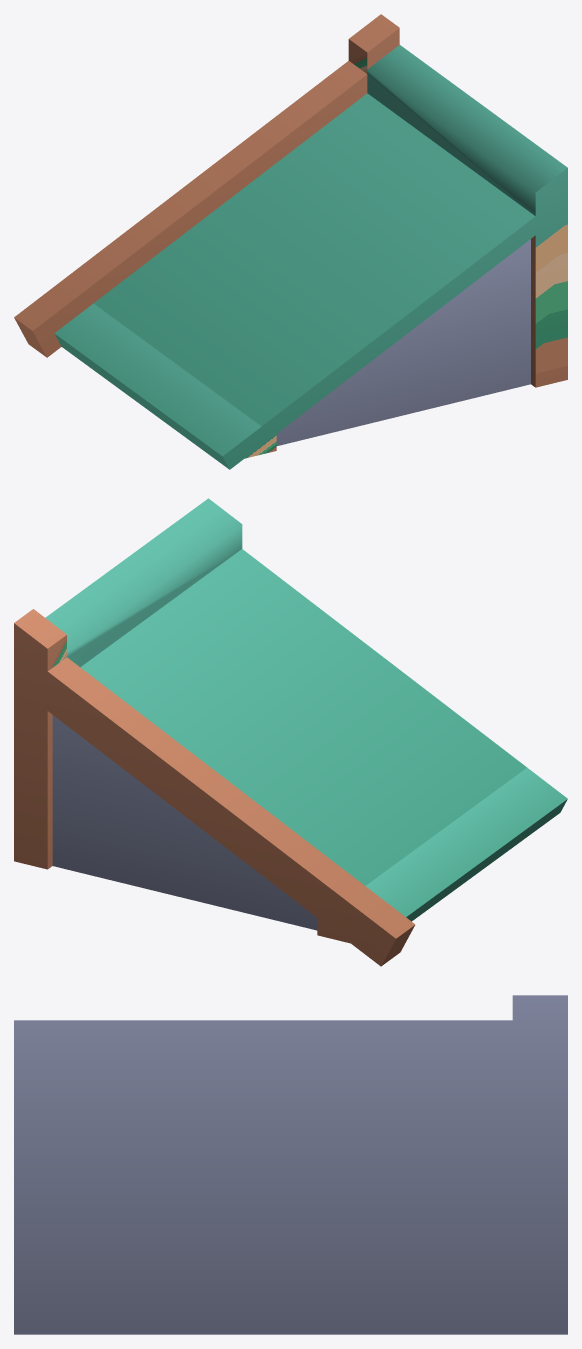
Rendered from roof-kn-roof-left.glb.
The picture shows the model from 3 angles, top to bottom: view 1: azimuth 30°, elevation 25°; view 2: azimuth 150°, elevation 25°; view 3: azimuth 270°, elevation 25°; orthographic projection. The views are drawn at different scales.
Visible parts, largest first — view 1: roof-left; view 2: roof-left; view 3: roof-left.
Boxes of the visible parts, <box> form: roof-left: <box>14,14,567,469</box>; roof-left: <box>14,498,567,966</box>; roof-left: <box>14,995,567,1334</box>.
Size of the model in its own units: 3.4 by 2.16 by 3.
Materials: 1 (1 with a texture image).
